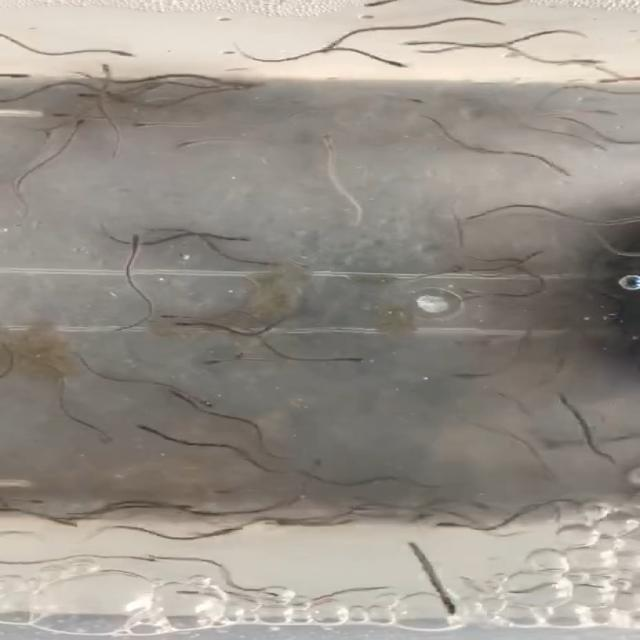active_glass_eel: (81, 430, 139, 450), (434, 595, 474, 619), (328, 353, 381, 370), (152, 137, 195, 157), (584, 146, 628, 164), (555, 161, 586, 183), (49, 515, 83, 534), (462, 210, 492, 231), (109, 49, 146, 64), (125, 118, 159, 134), (4, 71, 44, 84), (176, 322, 203, 341), (309, 128, 341, 143), (232, 228, 256, 247), (546, 111, 576, 126), (207, 358, 239, 372), (523, 242, 550, 258), (313, 41, 343, 55), (258, 259, 286, 274), (434, 515, 455, 535), (68, 120, 98, 132), (196, 400, 226, 412), (409, 92, 431, 108), (124, 233, 150, 246), (553, 387, 577, 401), (158, 383, 188, 394), (160, 311, 188, 322), (126, 421, 154, 432), (72, 90, 98, 101), (226, 79, 252, 89), (94, 62, 112, 74), (44, 109, 65, 119), (388, 56, 402, 69), (457, 369, 472, 376)
